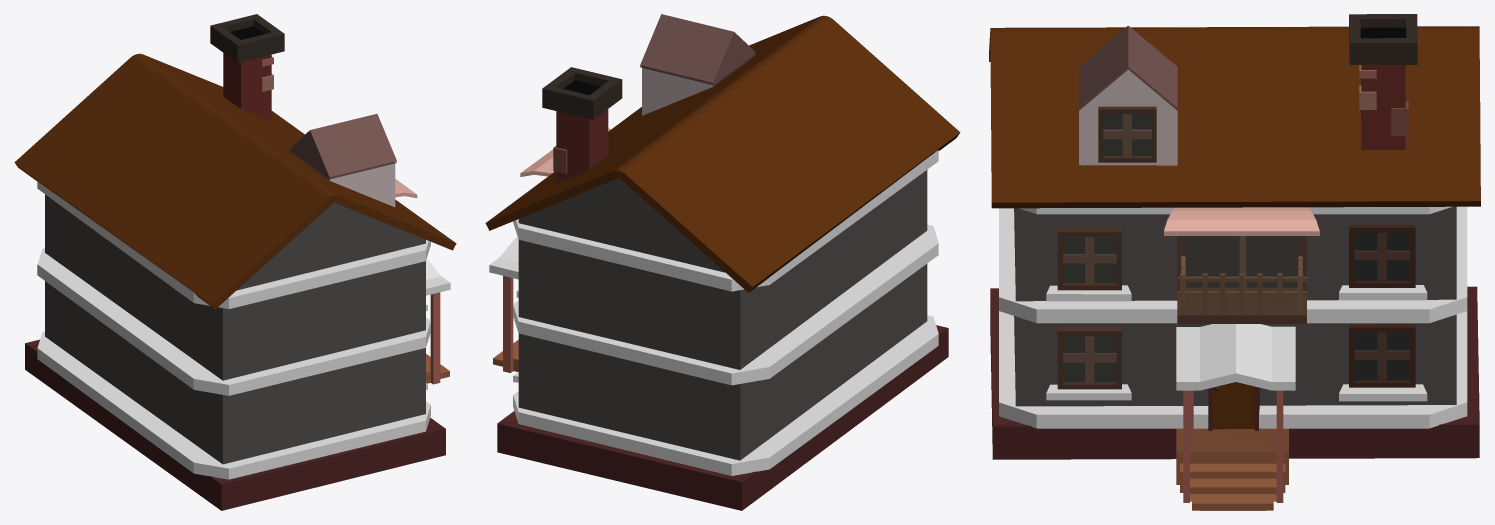
Rendered from house2.fbx.
3 views of the same model, side by side, from view 1: azimuth 30°, elevation 25°; view 2: azimuth 150°, elevation 25°; view 3: azimuth 270°, elevation 25° (orthographic). The views are drawn at different scales.
Visible parts, largest first — view 1: Cube.003, Cube.052, Cube.054, Cube.059, Cube.053, Cube.014, Cube.010; view 2: Cube.003, Cube.054, Cube.052, Cube.059, Cube.053, Cube.056, Cube.010; view 3: Cube.003, Cube.054, Cube.052, Cube.059, Cube.010, Cube.021, Cube.045, Cube.002, Cube.032, Cube.020, Cube.015, Cube.031 (+17 smaller).
Part boxes in pixels (bbox=[...]): Cube.003: bbox=[14, 14, 456, 510]; Cube.052: bbox=[37, 248, 430, 395]; Cube.054: bbox=[37, 331, 430, 479]; Cube.059: bbox=[290, 114, 396, 207]; Cube.053: bbox=[37, 181, 430, 308]; Cube.014: bbox=[430, 292, 440, 384]; Cube.010: bbox=[426, 259, 450, 295]; Cube.003: bbox=[485, 15, 960, 510]; Cube.054: bbox=[513, 315, 938, 475]; Cube.052: bbox=[513, 224, 938, 385]; Cube.059: bbox=[640, 14, 755, 115]; Cube.053: bbox=[513, 150, 938, 291]; Cube.056: bbox=[503, 276, 513, 372]; Cube.010: bbox=[489, 238, 518, 279]; Cube.003: bbox=[989, 14, 1480, 459]; Cube.054: bbox=[999, 311, 1467, 428]; Cube.052: bbox=[999, 206, 1467, 323]; Cube.059: bbox=[1079, 25, 1177, 165]; Cube.010: bbox=[1176, 324, 1295, 390]; Cube.021: bbox=[1177, 236, 1306, 291]; Cube.045: bbox=[1164, 207, 1319, 235]; Cube.002: bbox=[1176, 428, 1288, 484]; Cube.032: bbox=[1177, 283, 1306, 323]; Cube.020: bbox=[1349, 324, 1415, 387]; Cube.015: bbox=[1057, 326, 1121, 389]; Cube.031: bbox=[1057, 227, 1121, 290].
Size of the model in its own units: 721 by 690 by 760.
